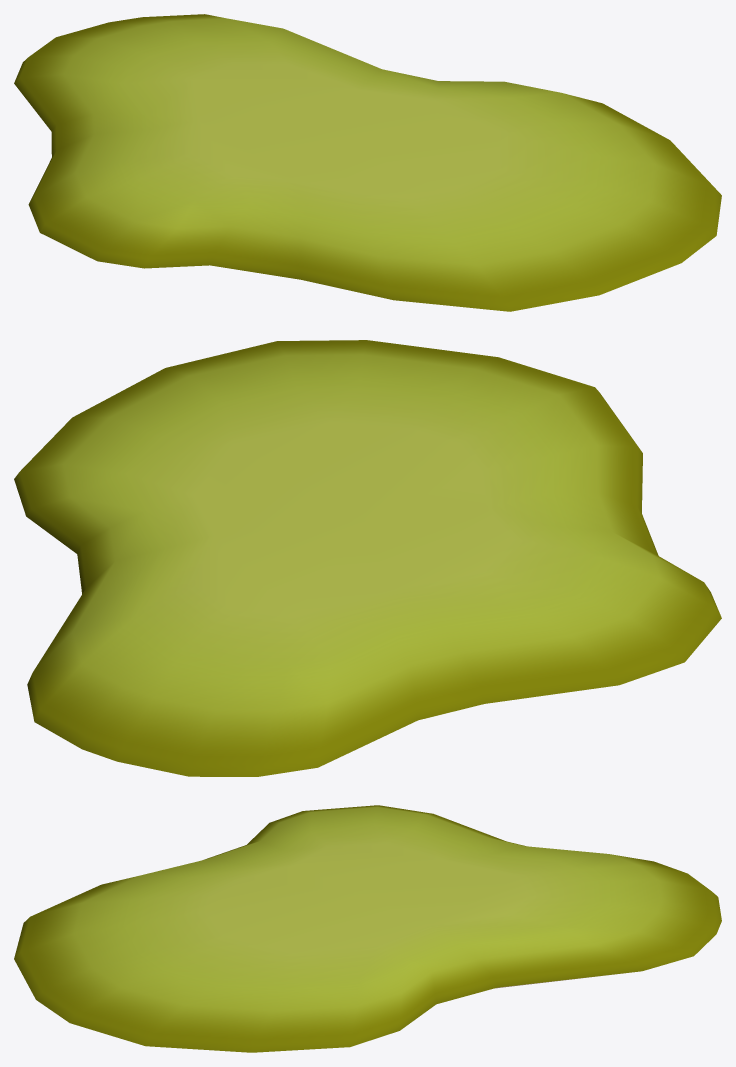
Rendered from grassTopEdge_D.fbx.
The picture shows the model from 3 angles, top to bottom: view 1: azimuth 30°, elevation 25°; view 2: azimuth 150°, elevation 25°; view 3: azimuth 270°, elevation 25°; orthographic projection. The views are drawn at different scales.
Parts seen in each view (by area): view 1: grassTopEdge_D; view 2: grassTopEdge_D; view 3: grassTopEdge_D.
Part boxes in pixels (x1,y1,x2,y2): grassTopEdge_D: (14, 14, 721, 311); grassTopEdge_D: (14, 340, 721, 776); grassTopEdge_D: (14, 805, 721, 1052).
Size of the model in its own units: 2365 by 484 by 2908.
